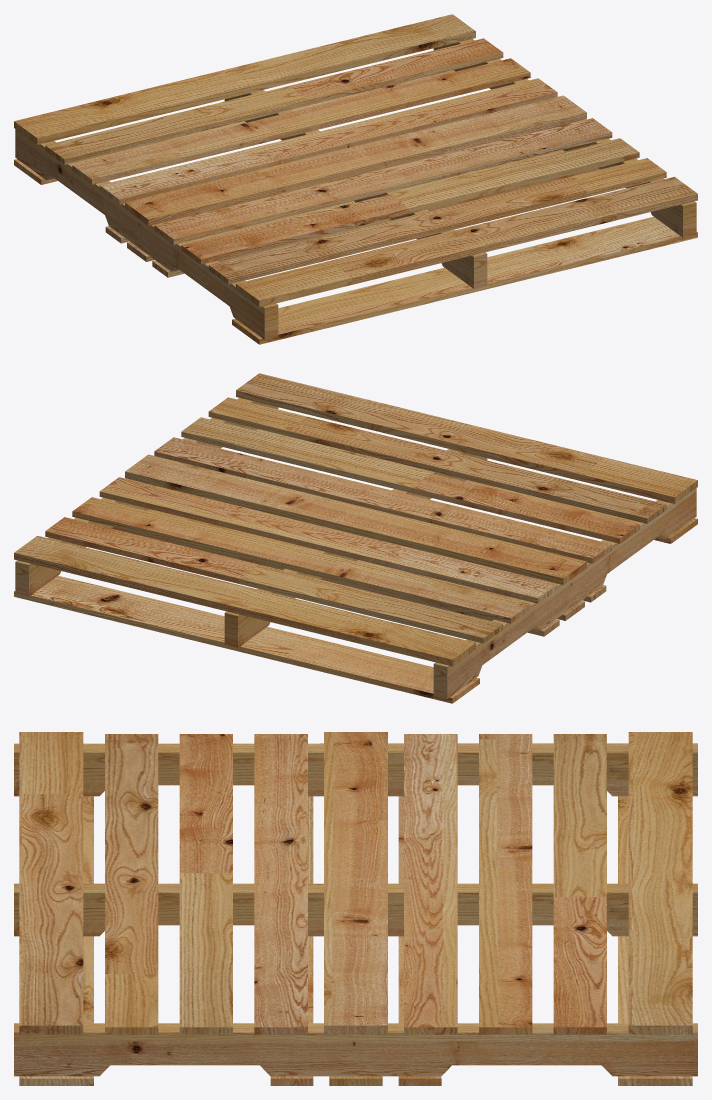
File: Cardboard_boxG.glb
3 views of the same model, one above another, from view 1: azimuth 30°, elevation 25°; view 2: azimuth 150°, elevation 25°; view 3: azimuth 270°, elevation 25° (orthographic). The views are drawn at different scales.
Parts seen in each view (by area): view 1: Cardboard_boxG; view 2: Cardboard_boxG; view 3: Cardboard_boxG.
Boxes of the visible parts, box(x1,y1,x2,y2) form: Cardboard_boxG: box(14, 14, 697, 344); Cardboard_boxG: box(14, 373, 697, 703); Cardboard_boxG: box(14, 732, 697, 1085).
Bounding box in the file's own units: 2.16 × 0.2066 × 2.12.
1 material, 1 textured.
